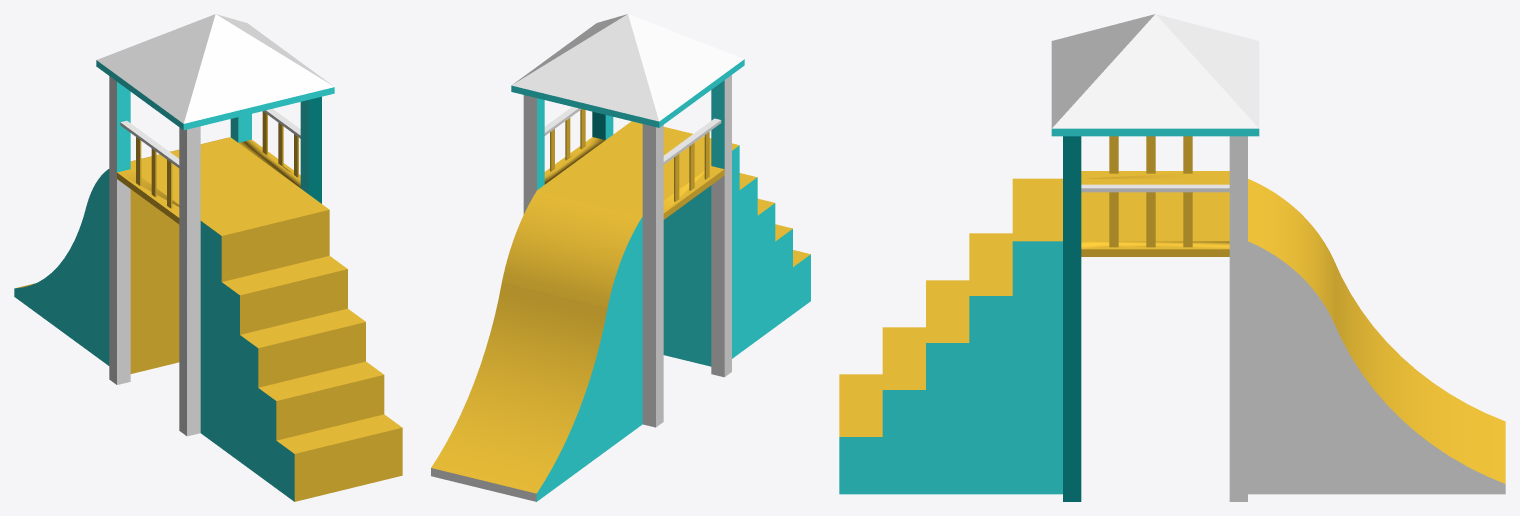
The model's file is slide_baseless.obj.
The picture shows the model from 3 angles, left to right: view 1: azimuth 30°, elevation 25°; view 2: azimuth 150°, elevation 25°; view 3: azimuth 270°, elevation 25°; orthographic projection. The views are drawn at different scales.
Size of the model in its own units: 5.6 by 13.37 by 17.99.
